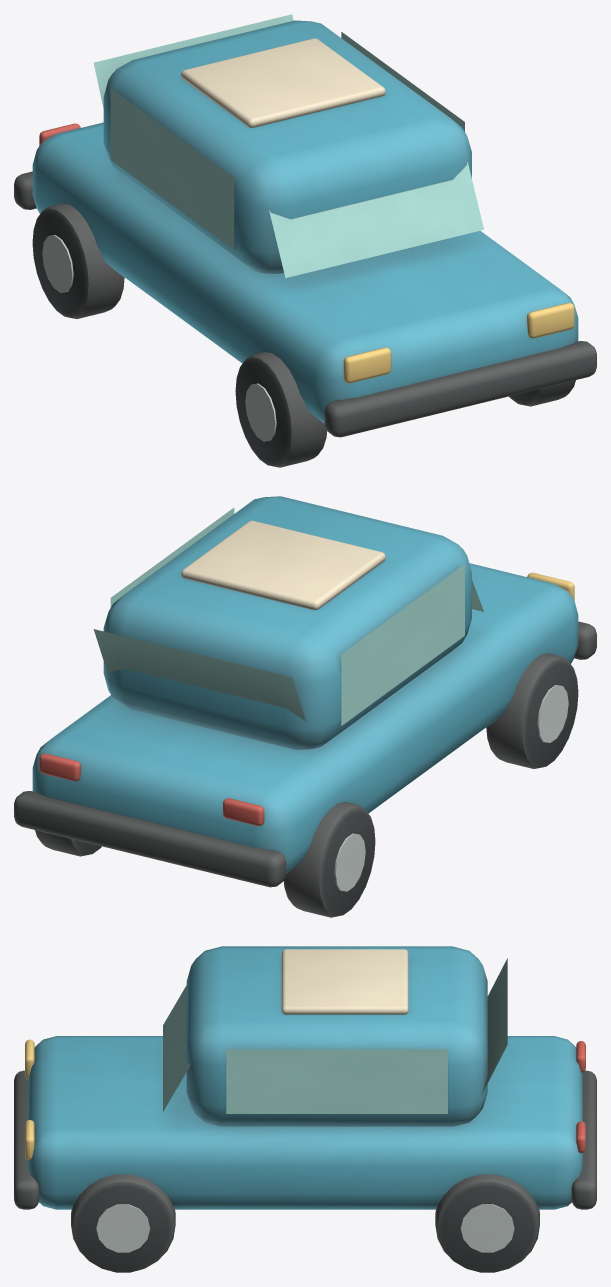
File: TrafficCarBlue.fbx
The picture shows the model from 3 angles, top to bottom: view 1: azimuth 30°, elevation 25°; view 2: azimuth 150°, elevation 25°; view 3: azimuth 270°, elevation 25°; orthographic projection. The views are drawn at different scales.
Visible parts, largest first — view 1: TrafficCarBlue; view 2: TrafficCarBlue; view 3: TrafficCarBlue.
Part boxes in pixels (x1,y1,x2,y2): TrafficCarBlue: (14, 14, 596, 467); TrafficCarBlue: (14, 496, 596, 917); TrafficCarBlue: (14, 946, 596, 1272).
Bounding box in the file's own units: 192 × 163 × 368.
